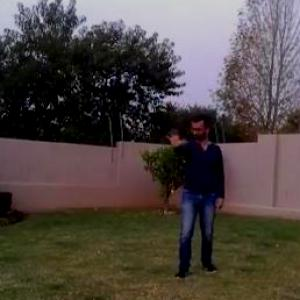follow_hand: (164, 123, 187, 149)
